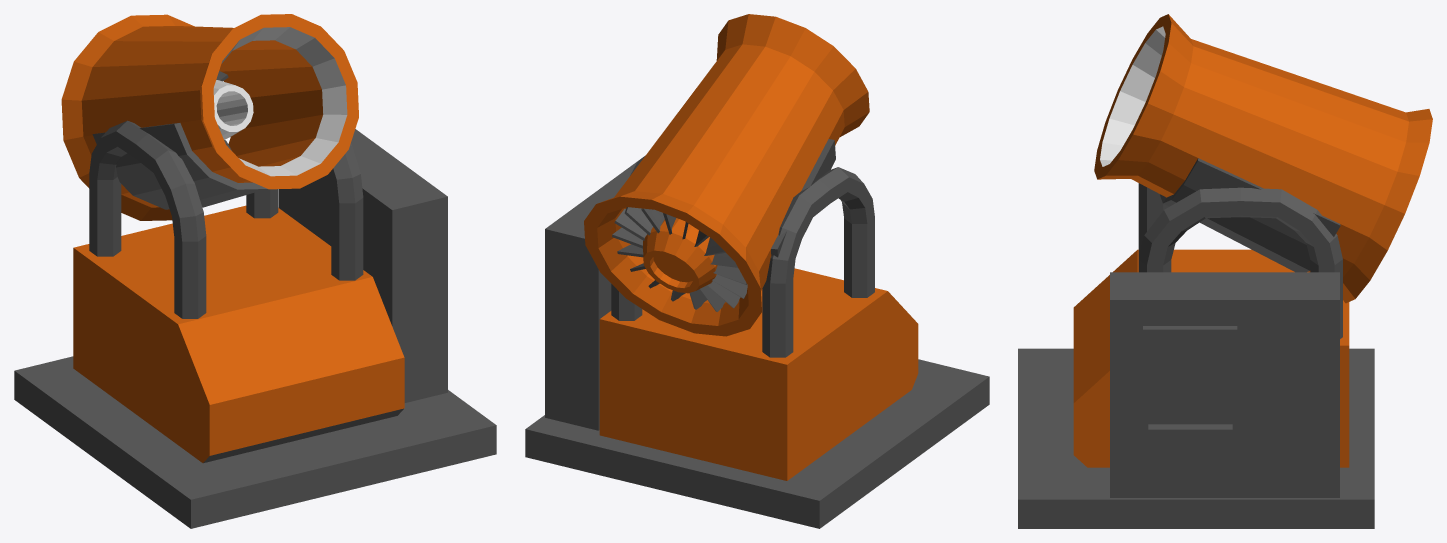
File: snieg_machina.fbx
3 renders of one model, left to right at view 1: azimuth 30°, elevation 25°; view 2: azimuth 150°, elevation 25°; view 3: azimuth 270°, elevation 25°, orthographic. The views are drawn at different scales.
Parts seen in each view (by area): view 1: Cube.004; view 2: Cube.004; view 3: Cube.004.
Part boxes in pixels (x1,y1,x2,y2): Cube.004: (14,14,496,528); Cube.004: (525,14,989,528); Cube.004: (1018,14,1432,528).
Size of the model in its own units: 271 by 354 by 311.
